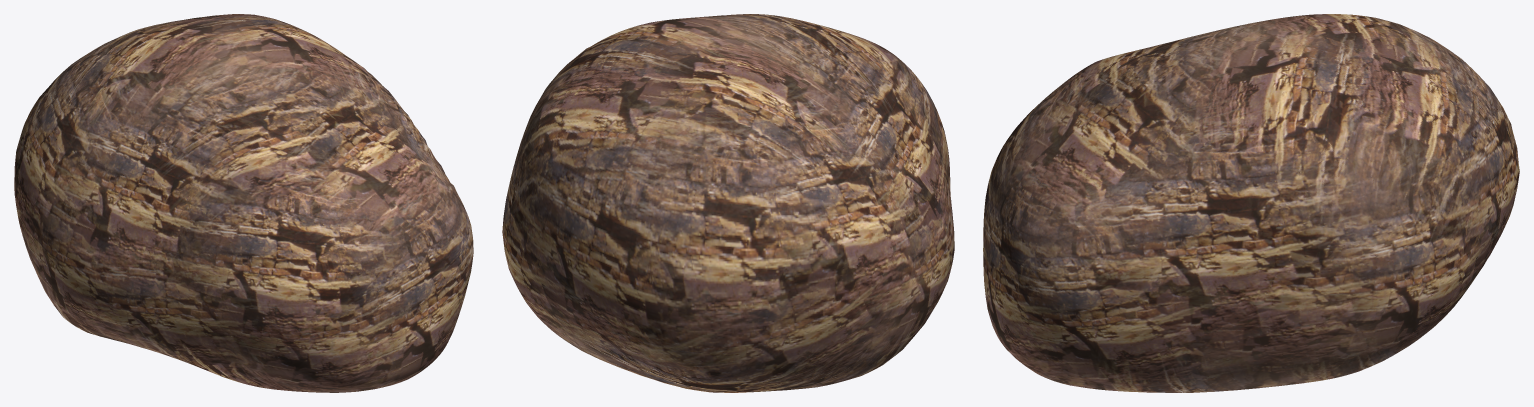
The model's file is mid_roche_3.fbx.
3 views of the same model, side by side, from view 1: azimuth 30°, elevation 25°; view 2: azimuth 150°, elevation 25°; view 3: azimuth 270°, elevation 25° (orthographic). The views are drawn at different scales.
Visible parts, largest first — view 1: cube; view 2: cube; view 3: cube.
Boxes of the visible parts, x1,y1,x2,y2 form: cube: (14, 14, 473, 392); cube: (502, 14, 954, 392); cube: (983, 14, 1519, 392).
Size of the model in its own units: 338 by 270 by 413.
Materials: 1 (1 with a texture image).
